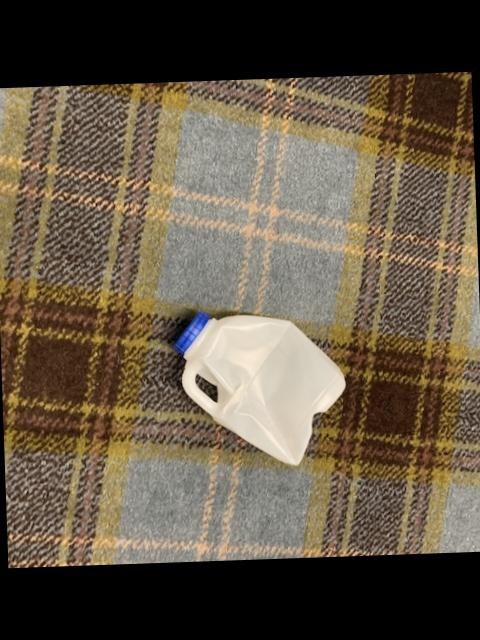plastic: (177, 311, 345, 463)
